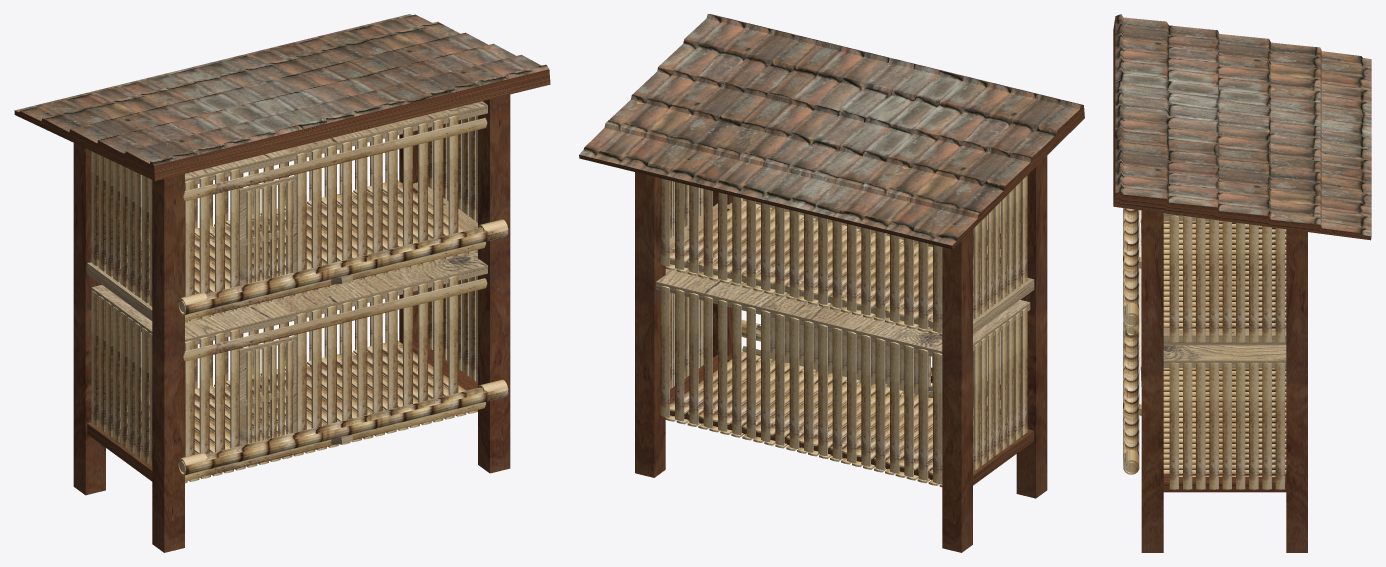
The model's file is Kandang Ayam 2.fbx.
3 views of the same model, side by side, from view 1: azimuth 30°, elevation 25°; view 2: azimuth 150°, elevation 25°; view 3: azimuth 270°, elevation 25° (orthographic). The views are drawn at different scales.
Parts seen in each view (by area): view 1: Cube.024; view 2: Cube.024; view 3: Cube.024.
Part boxes in pixels (box(x1,y1,x2,y2)): Cube.024: box(14, 14, 550, 552); Cube.024: box(579, 14, 1084, 552); Cube.024: box(1113, 14, 1371, 552).
Bounding box in the file's own units: 419 × 411 × 258.
4 materials, 4 textured.
